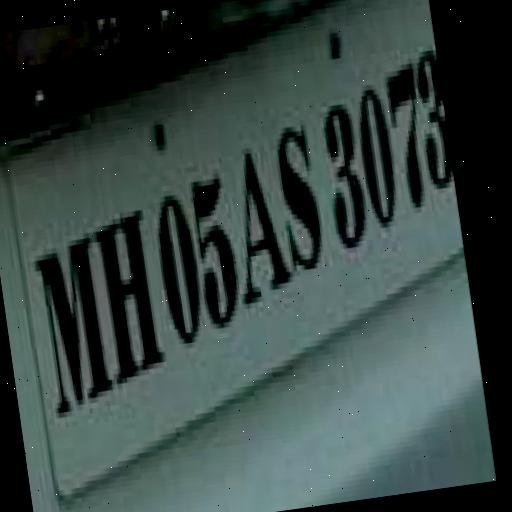number plate: (0, 47, 501, 454)
